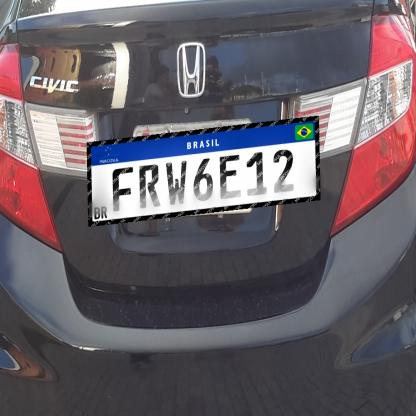PlacaM: (86, 115, 320, 226)
